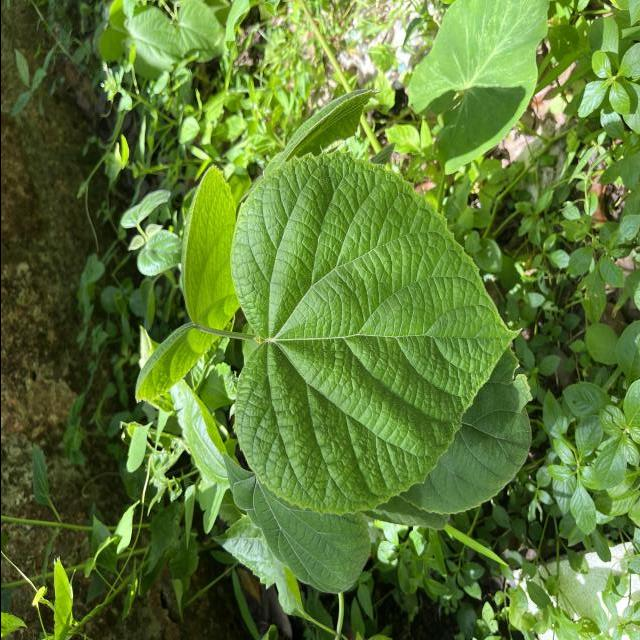Clerodendrum infortunatum: (226, 147, 524, 518)
